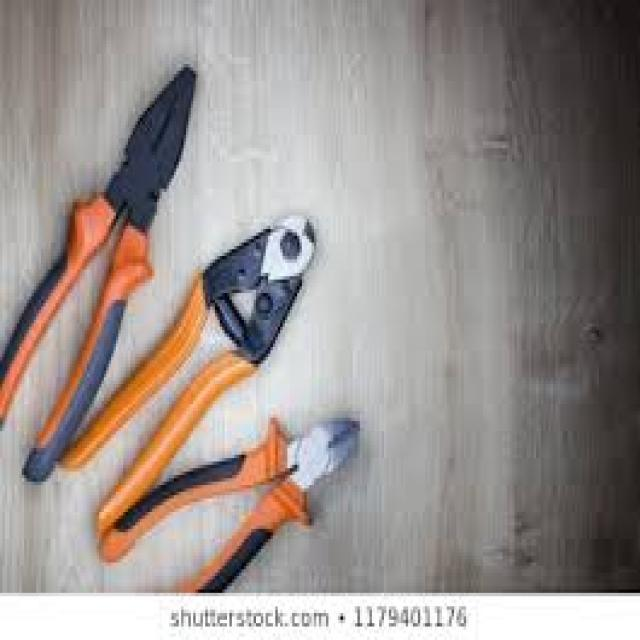pliers: (64, 210, 334, 519), (0, 52, 203, 461), (123, 406, 378, 610)
